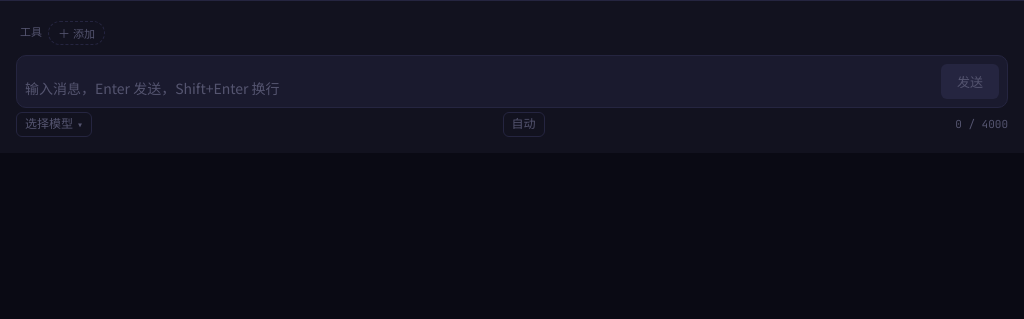
Scenario: MessageInput /skill 技能列表选择 › 输入 /skill 前缀时弹出技能列表
Step 1. Type "/skill" into the text box with placeholder "输入消息，Enter 发送，Shift+Enter 换行" → (479, 88), box [25,77,933,99]
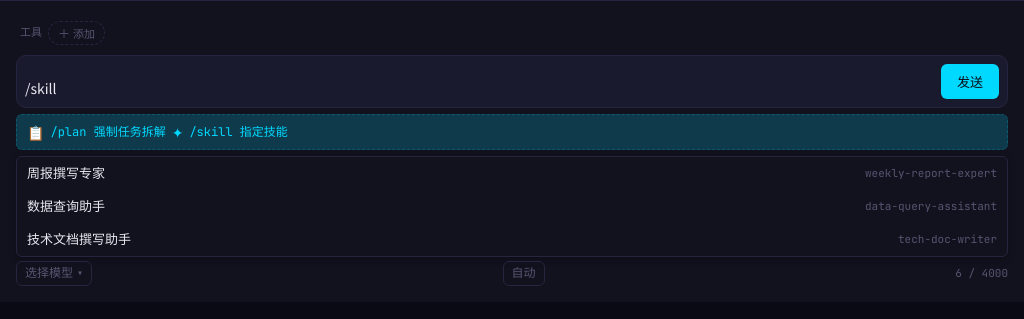
Expected: the element with class "skill-suggest" is shown, [16,156,1008,257]
Expected: the number of elements with class "skill-suggest-item" is 3, [27,163,997,182]; [27,196,997,215]; [27,229,997,248]
Expected: the element with class "skill-suggest" shows "数据查询助手", [27,196,105,215]
